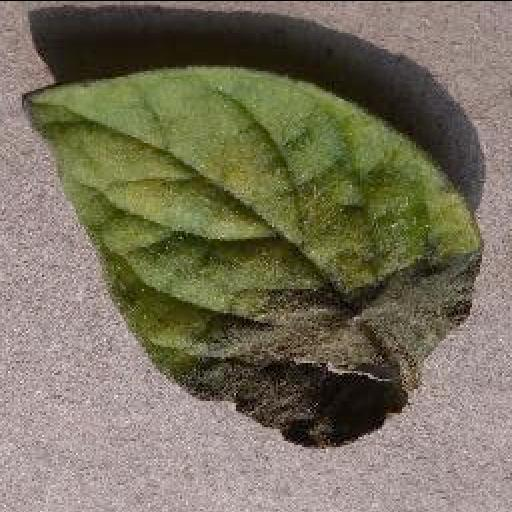disease_tomato: (18, 61, 484, 447)
